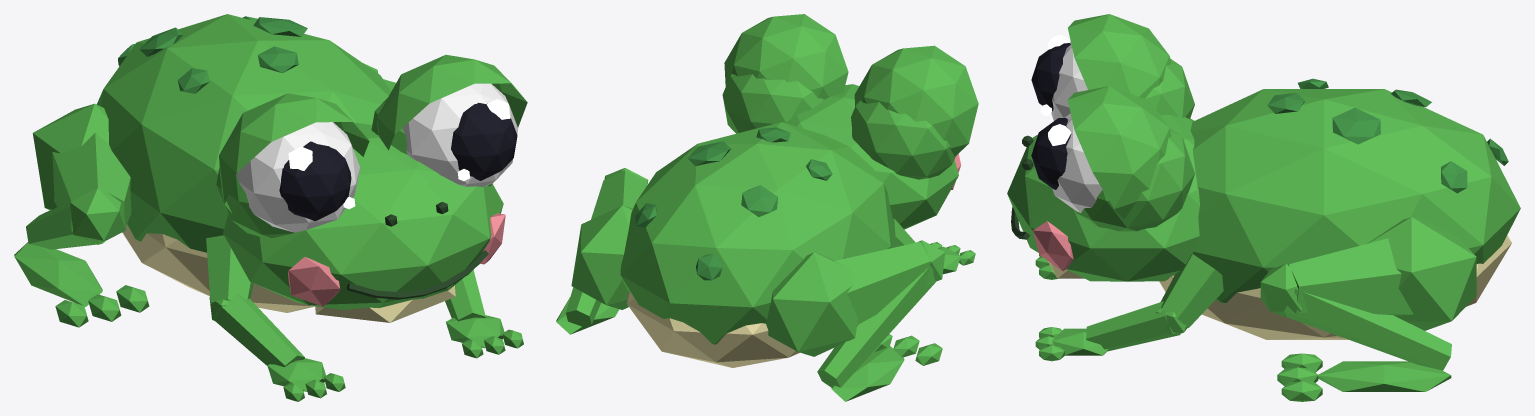
Rendered from frog-eyes.glb.
3 views of the same model, side by side, from view 1: azimuth 30°, elevation 25°; view 2: azimuth 150°, elevation 25°; view 3: azimuth 270°, elevation 25° (orthographic). The views are drawn at different scales.
Visible parts, largest first — view 1: Frog_Body, Frog_Head, Frog_Eye_L, Frog_Lid_L, Frog_Lid_R, Frog_Eye_R, Frog_Thigh_L, Frog_Pupil_L, Frog_Belly, Frog_Pupil_R, Frog_BackFoot_L, Frog_Hip_L (+18 smaller); view 2: Frog_Body, Frog_Lid_L, Frog_Lid_R, Frog_Hip_L, Frog_Head, Frog_EyeBulge_L, Frog_Belly, Frog_Hip_R, Frog_Thigh_L, Frog_EyeBulge_R, Frog_Shin_L, Frog (+8 smaller); view 3: Frog_Body, Frog_Head, Frog_Lid_R, Frog_Hip_R, Frog_Lid_L, Frog_Thigh_R, Frog_Shin_R, Frog_EyeBulge_R, Frog_Belly, Frog, Frog_BackFoot_R, Frog_UpperArm_R (+12 smaller).
Part boxes in pixels (<box>): Frog_Body: <box>96,14,391,252</box>; Frog_Head: <box>223,122,503,309</box>; Frog_Eye_L: <box>237,122,359,232</box>; Frog_Lid_L: <box>219,93,369,212</box>; Frog_Lid_R: <box>377,54,527,150</box>; Frog_Eye_R: <box>402,83,518,186</box>; Frog_Thigh_L: <box>52,133,131,244</box>; Frog_Pupil_L: <box>279,141,351,221</box>; Frog_Belly: <box>122,224,314,312</box>; Frog_Pupil_R: <box>451,102,517,180</box>; Frog_BackFoot_L: <box>14,242,102,306</box>; Frog_Hip_L: <box>32,103,108,210</box>; Frog_Body: <box>620,122,892,344</box>; Frog_Lid_L: <box>854,45,978,156</box>; Frog_Lid_R: <box>724,14,848,99</box>; Frog_Hip_L: <box>766,252,858,356</box>; Frog_Head: <box>745,84,958,229</box>; Frog_EyeBulge_L: <box>851,100,955,179</box>; Frog_Belly: <box>627,292,799,367</box>; Frog_Hip_R: <box>571,205,632,309</box>; Frog_Thigh_L: <box>834,242,934,324</box>; Frog_EyeBulge_R: <box>722,74,823,133</box>; Frog_Shin_L: <box>817,266,937,387</box>; Frog: <box>635,127,832,280</box>; Frog_Body: <box>1190,89,1520,302</box>; Frog_Head: <box>1007,115,1199,281</box>; Frog_Lid_R: <box>1067,86,1171,218</box>; Frog_Hip_R: <box>1367,217,1476,330</box>; Frog_Lid_L: <box>1068,14,1171,98</box>; Frog_Thigh_R: <box>1283,238,1413,316</box>; Frog_Shin_R: <box>1283,287,1451,370</box>; Frog_EyeBulge_R: <box>1074,127,1194,231</box>; Frog_Belly: <box>1159,235,1511,339</box>; Frog: <box>1267,78,1508,193</box>; Frog_BackFoot_R: <box>1317,361,1451,391</box>; Frog_UpperArm_R: <box>1160,254,1223,327</box>.
Size of the model in its own units: 1.76 by 1.15 by 2.
